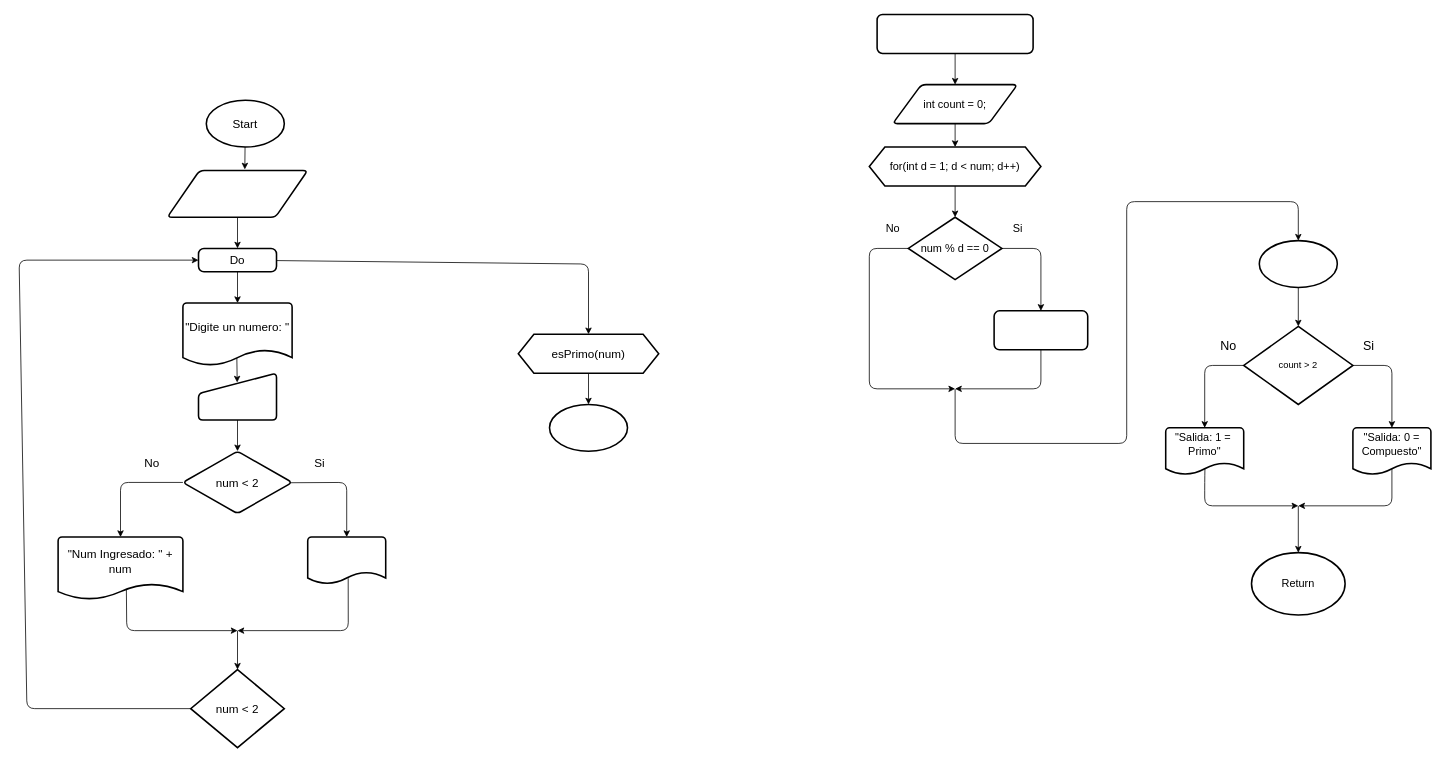
This 1445x761 diagram has some shape labels left out. Each missing label, with the centre of its shape:
"Error": the point at 346,560
Cierre: the point at 1298,263
count = count + 1;: the point at 1040,330
End: the point at 588,427
float num = 0f:: the point at 237,193
num: the point at 237,396
public static float esPrimo(float num): the point at 955,33
